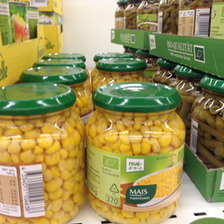corn: (88, 81, 186, 224), (1, 83, 86, 224)
